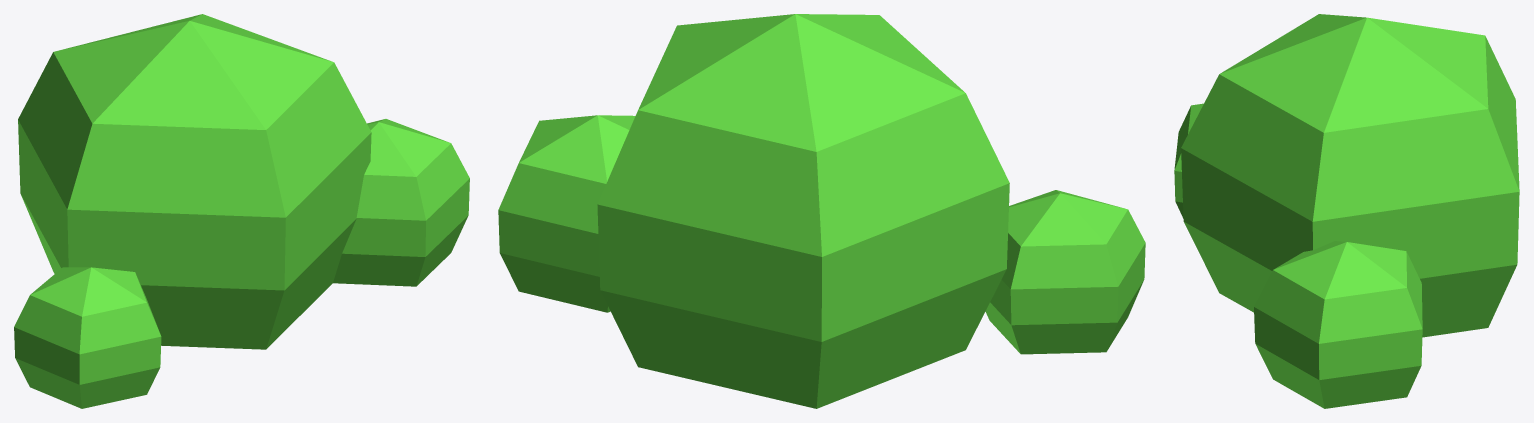
File: Bush2_Model.fbx
3 renders of one model, left to right at view 1: azimuth 30°, elevation 25°; view 2: azimuth 150°, elevation 25°; view 3: azimuth 270°, elevation 25°, orthographic. The views are drawn at different scales.
Visible parts, largest first — view 1: Bush_2; view 2: Bush_2; view 3: Bush_2.
Boxes of the visible parts, box(x1,y1,x2,y2) form: Bush_2: box(14, 14, 469, 408); Bush_2: box(498, 14, 1145, 408); Bush_2: box(1174, 14, 1519, 408).
Bounding box in the file's own units: 133 × 72.55 × 82.5.
